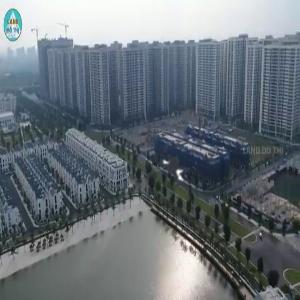drone: (133, 125, 217, 209)
